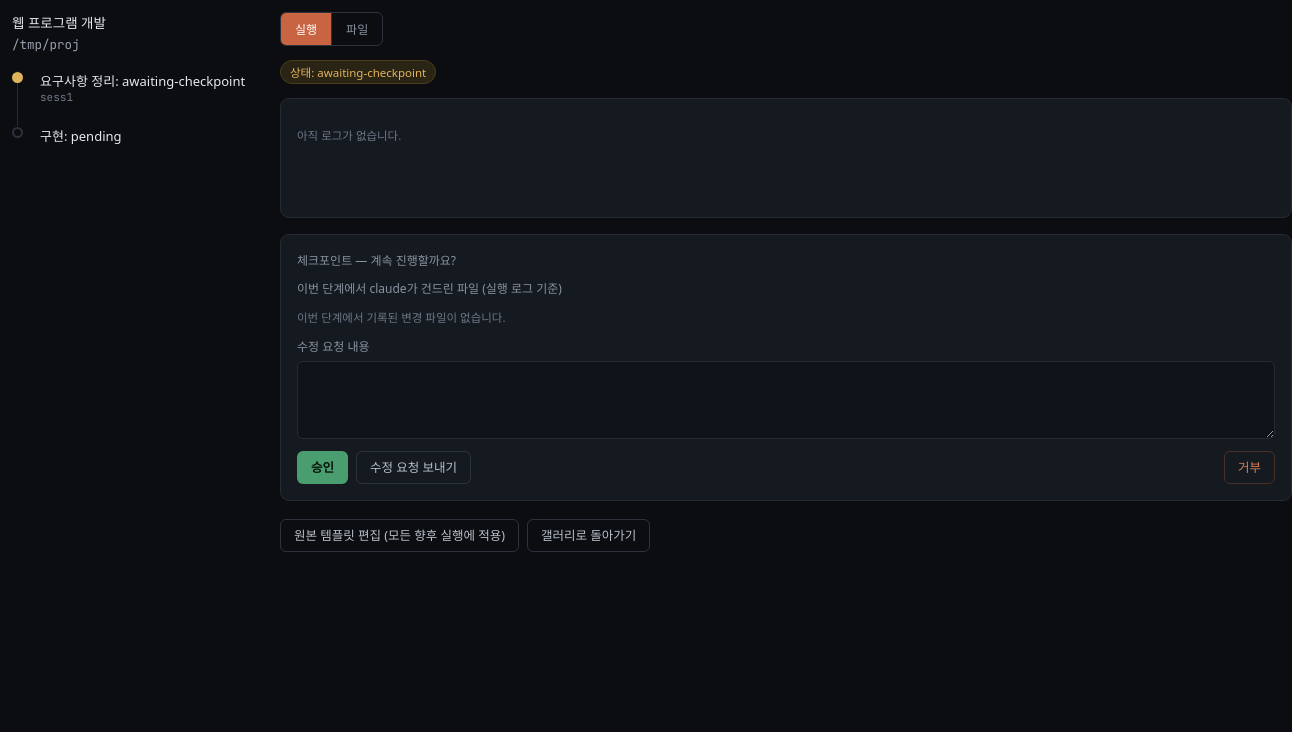
PipelineRun › shows an error when approveCheckpoint rejects
The width and height of the screenshot is (1292, 732).
Click the button "승인" at (322, 467), box [297, 450, 348, 484]
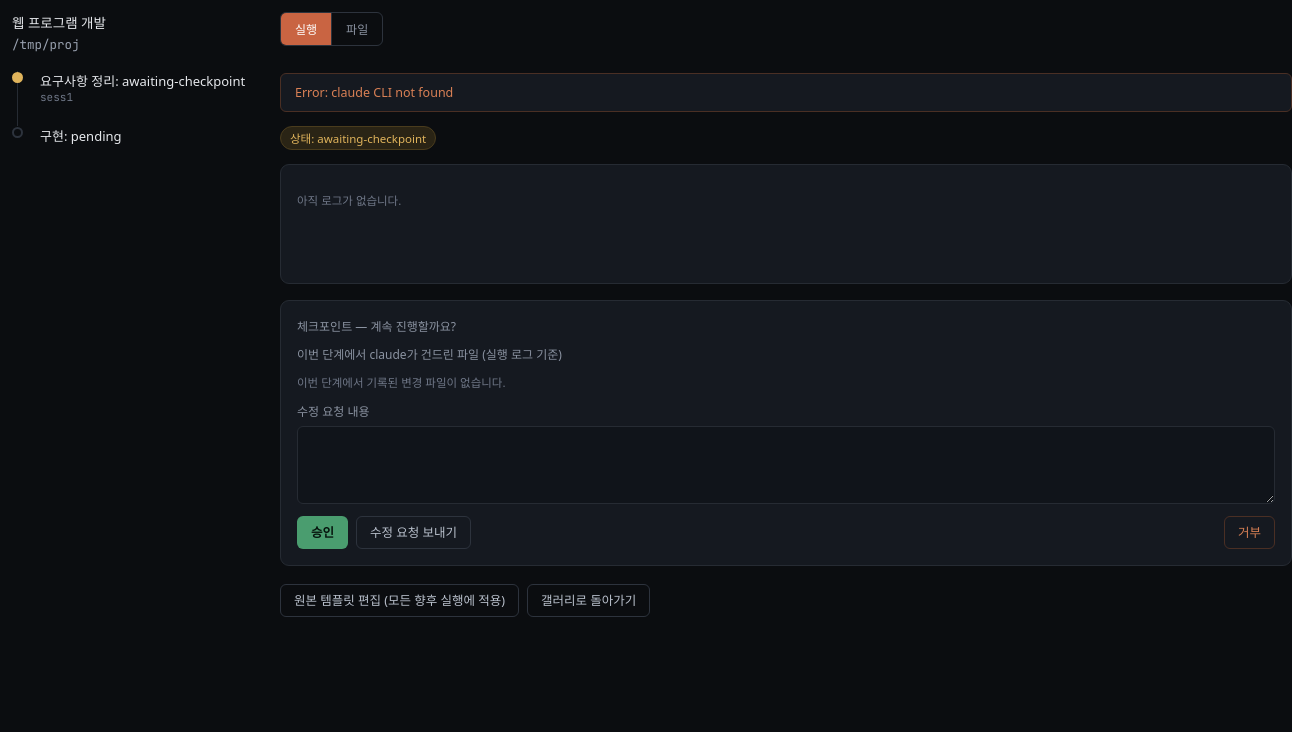
Check: the message shows "claude CLI not found", box [295, 84, 453, 100]
